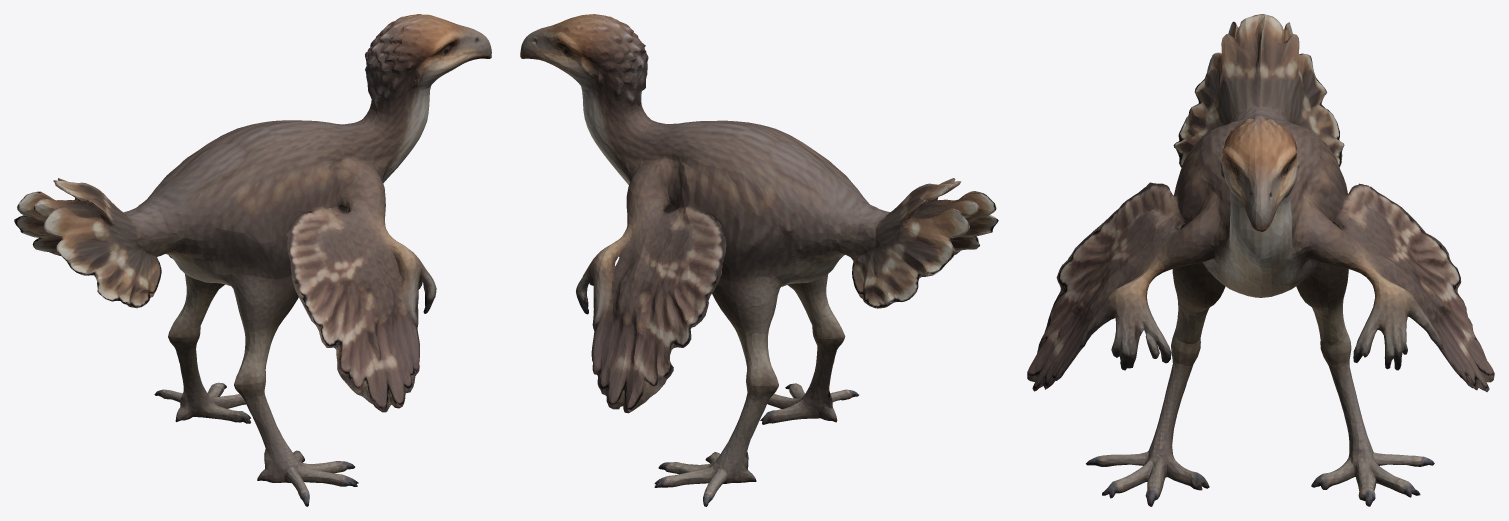
The picture shows the model from 3 angles, left to right: view 1: azimuth 30°, elevation 25°; view 2: azimuth 150°, elevation 25°; view 3: azimuth 270°, elevation 25°; orthographic projection. The views are drawn at different scales.
Parts seen in each view (by area): view 1: world; view 2: world; view 3: world.
Part boxes in pixels (x1,y1,x2,y2): world: [14, 14, 491, 506]; world: [520, 14, 998, 506]; world: [1027, 14, 1494, 506].
Bounding box in the file's own units: 1 × 0.8079 × 0.7707.
1 material, 1 textured.
